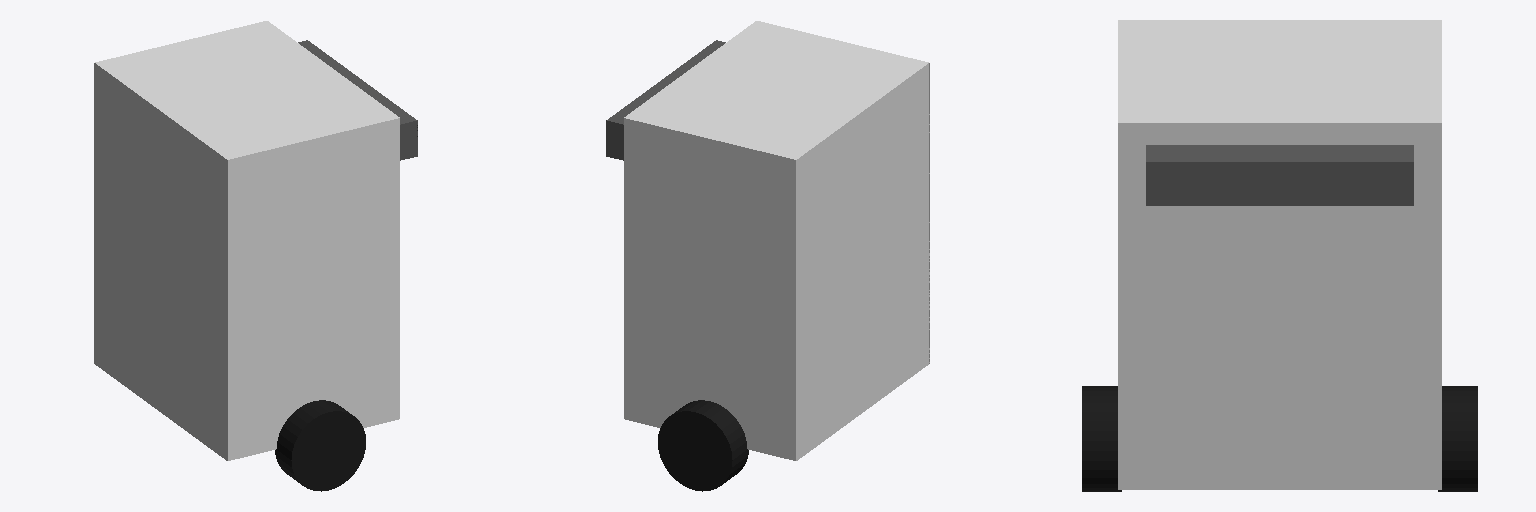
URDF robot description (balance_bot):
<?xml version="1.0"?>
<!--
  balance_bot URDF：两轮自平衡机器人的最小运动学模型
  ================================================================
  需要你用尺子量的 6 个数（单位全部是"米"，量出厘米后除以100）：

  ① BODY_LENGTH  底盘长（前后方向） —— 下面默认 0.15
  ② BODY_WIDTH   底盘宽（左右方向） —— 下面默认 0.20
  ③ BODY_HEIGHT  底盘高（泡沫板叠起来的总高）—— 下面默认 0.25
  ④ WHEEL_RADIUS 轮子半径（直径÷2，尽量量准）—— 下面默认 0.0325
  ⑤ WHEEL_WIDTH  轮子厚度 —— 下面默认 0.025
  ⑥ WHEEL_SEP/2  轮距的一半（两轮中心距÷2，尽量量准）—— 下面默认 0.11

  坐标约定（ROS 标准 REP-103）：X 朝前，Y 朝左，Z 朝上
  base_link 原点放在两轮轴心连线的中点，这样倾角就是 base_link 的 pitch
-->
<robot name="balance_bot">

  <!-- ================= 底盘 ================= -->
  <link name="base_link">
    <visual>
      <!-- 底盘几何中心相对轮轴的偏移：往上抬 半个身高 -->
      <origin xyz="0 0 0.125" rpy="0 0 0"/>
      <geometry>
        <!-- ①长 ②宽 ③高 -->
        <box size="0.15 0.20 0.25"/>
      </geometry>
      <material name="white">
        <color rgba="0.9 0.9 0.9 1.0"/>
      </material>
    </visual>
  </link>

  <!-- ================= 左轮 ================= -->
  <link name="left_wheel">
    <visual>
      <!-- 圆柱默认沿Z轴，绕X转90°让它沿Y轴（轮轴方向） -->
      <origin xyz="0 0 0" rpy="1.5708 0 0"/>
      <geometry>
        <!-- radius=④ length=⑤ -->
        <cylinder radius="0.0325" length="0.025"/>
      </geometry>
      <material name="black">
        <color rgba="0.15 0.15 0.15 1.0"/>
      </material>
    </visual>
  </link>

  <joint name="left_wheel_joint" type="continuous">
    <parent link="base_link"/>
    <child link="left_wheel"/>
    <!-- y = +轮距的一半 ⑥（左为正） -->
    <origin xyz="0 0.11 0" rpy="0 0 0"/>
    <axis xyz="0 1 0"/>
  </joint>

  <!-- ================= 右轮 ================= -->
  <link name="right_wheel">
    <visual>
      <origin xyz="0 0 0" rpy="1.5708 0 0"/>
      <geometry>
        <!-- 和左轮保持一致 -->
        <cylinder radius="0.0325" length="0.025"/>
      </geometry>
      <material name="black">
        <color rgba="0.15 0.15 0.15 1.0"/>
      </material>
    </visual>
  </link>

  <joint name="right_wheel_joint" type="continuous">
    <parent link="base_link"/>
    <child link="right_wheel"/>
    <!-- y = -轮距的一半 ⑥（右为负） -->
    <origin xyz="0 -0.11 0" rpy="0 0 0"/>
    <axis xyz="0 1 0"/>
  </joint>

  <!-- ================= IMU ================= -->
  <link name="imu_link">
    <visual>
      <origin xyz="0 0 0" rpy="0 0 0"/>
      <geometry>
        <box size="0.03 0.03 0.01"/>
      </geometry>
      <material name="blue">
        <color rgba="0.2 0.4 0.9 1.0"/>
      </material>
    </visual>
  </link>

  <joint name="imu_joint" type="fixed">
    <parent link="base_link"/>
    <child link="imu_link"/>
    <!-- IMU 相对轮轴中点的位置，大概量一下即可；默认放在底盘顶部 -->
    <origin xyz="0 0 0.20" rpy="0 0 0"/>
  </joint>

  <!-- ============ 深度相机 (Orbbec Astra) ============ -->
  <link name="camera_link">
    <visual>
      <origin xyz="0 0 0" rpy="0 0 0"/>
      <geometry>
        <!-- Astra 机身大致尺寸，不影响功能，只是视觉外观 -->
        <box size="0.04 0.165 0.03"/>
      </geometry>
      <material name="gray">
        <color rgba="0.4 0.4 0.4 1.0"/>
      </material>
    </visual>
  </link>

  <joint name="camera_joint" type="fixed">
    <parent link="base_link"/>
    <child link="camera_link"/>
    <!-- ⑦ 相机镜头中心相对轮轴中点的位置：
         x = 向前偏移量（相机在底盘前沿就是 底盘长/2 左右）
         z = 离轮轴的高度
         如果相机是俯视安装的，把 rpy 第二个数改成俯仰角（弧度，低头为正） -->
    <origin xyz="0.08 0 0.22" rpy="0 0 0"/>
  </joint>

  <!-- 相机光学坐标系：图像/点云数据用的是"Z朝前、X朝右"的光学约定，
       和 ROS 机体约定(X朝前)不同，所以固定加这个标准旋转，
       MVP2 处理点云时直接用 camera_optical_frame 即可 -->
  <link name="camera_optical_frame"/>

  <joint name="camera_optical_joint" type="fixed">
    <parent link="camera_link"/>
    <child link="camera_optical_frame"/>
    <origin xyz="0 0 0" rpy="-1.5708 0 -1.5708"/>
  </joint>

</robot>

--- Render facts (derived) ---
3 views of the same robot in one strip: view 1: azimuth 30°, elevation 25°; view 2: azimuth 150°, elevation 25°; view 3: azimuth 270°, elevation 25° (orthographic).
Model balance_bot with 6 links and 5 joints (2 continuous, 3 fixed), rooted at base_link, posed all joints at 0.
Visible links, largest first — view 1: base_link, right_wheel, camera_link; view 2: base_link, left_wheel, camera_link; view 3: base_link, camera_link, left_wheel, right_wheel.
Boxes of the visible links, x1,y1,x2,y2 form: base_link: (94,21,399,460); right_wheel: (275,400,365,491); camera_link: (298,40,417,160); base_link: (624,21,929,460); left_wheel: (658,400,748,491); camera_link: (606,40,725,160); base_link: (1118,20,1441,489); camera_link: (1146,145,1413,205); left_wheel: (1438,386,1477,491); right_wheel: (1082,386,1121,491).
Size in the robot's own frame: 0.175 by 0.245 by 0.2825 metres.
Geometry: primitives only (box / cylinder / sphere), no mesh files.
